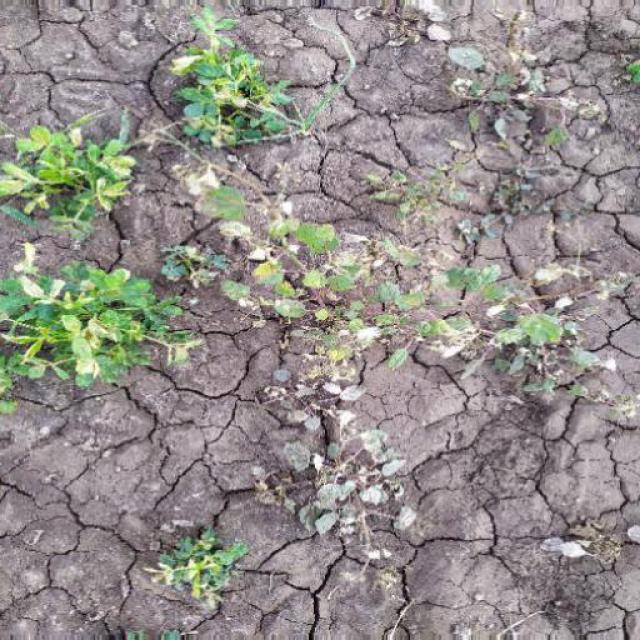weed: (1, 116, 208, 450), (223, 208, 595, 380), (134, 520, 278, 598)
